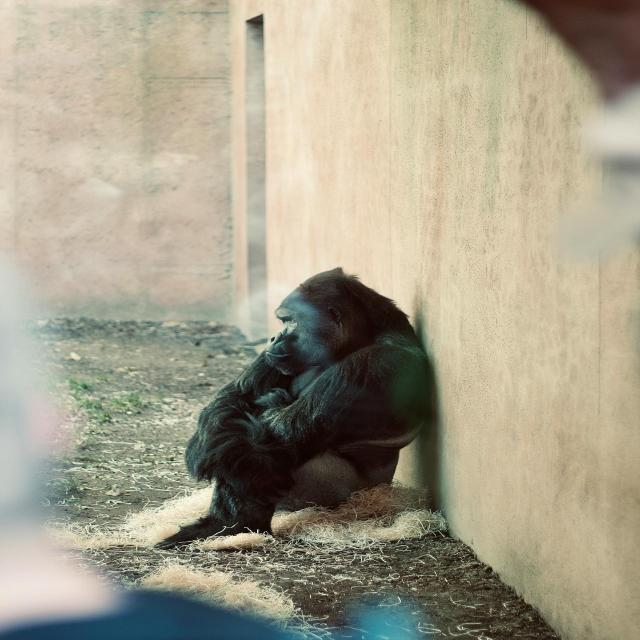Gorilla: (152, 265, 434, 552)
